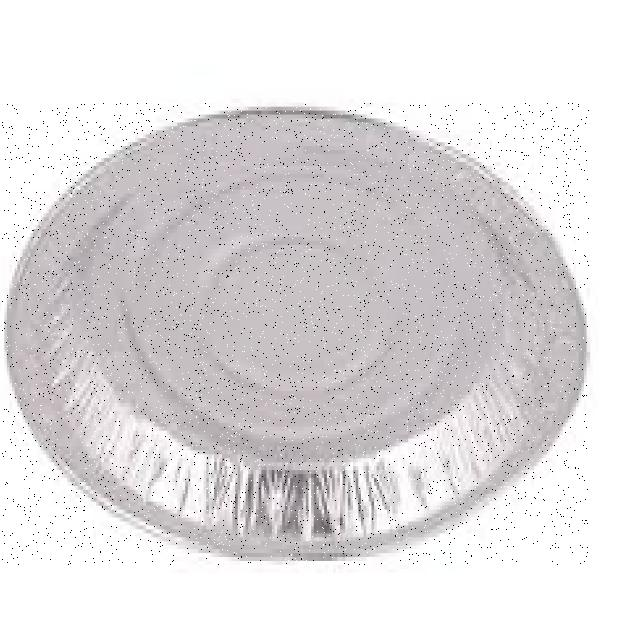metal: (3, 103, 589, 565)
